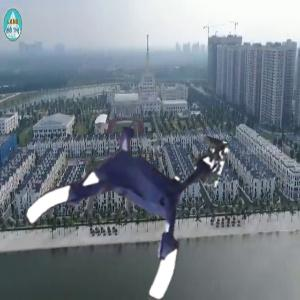drone: (33, 112, 210, 289)
